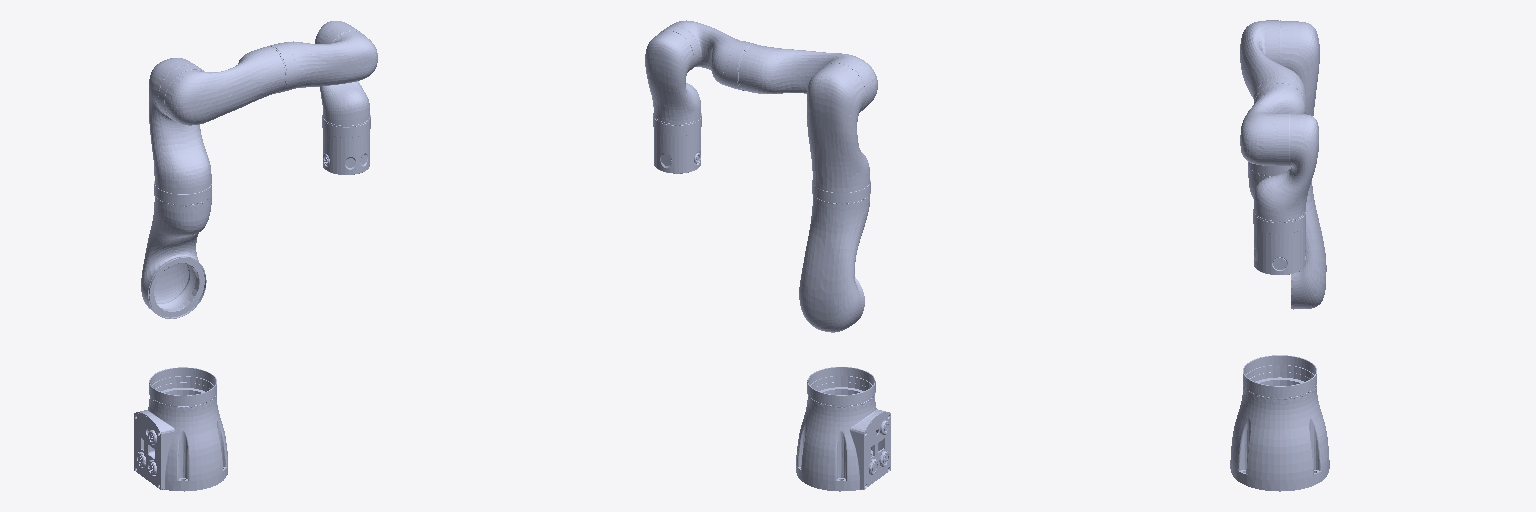
URDF robot description (tcb605):
<?xml version="1.0" encoding="utf-8"?>
<!-- This URDF was automatically created by SolidWorks to URDF Exporter! Originally created by Stephen Brawner (brawner@gmail.com) 
     Commit Version: 1.6.0-4-g7f85cfe  Build Version: 1.6.7995.38578
     For more information, please see http://wiki.ros.org/sw_urdf_exporter -->
<robot
  name="tcb605">
  <mujoco>
    <compiler
      meshdir="../meshes/"
      discardvisual="false"
    />
  </mujoco>
  <link
    name="link0">
    <inertial>
      <origin
        xyz="6.12497638641969E-05 -0.000223185372968983 0.0451250845243685"
        rpy="0 0 0" />
      <mass
        value="0.187811134048234" />
      <inertia
        ixx="0.000410447827698303"
        ixy="-1.83967207207471E-06"
        ixz="7.38633064775921E-06"
        iyy="0.00040849066760795"
        iyz="9.28078640227983E-07"
        izz="0.000400922840502194" />
    </inertial>
    <visual>
      <origin
        xyz="0 0 0"
        rpy="0 0 0" />
      <geometry>
        <mesh
          filename="package://tl_description/meshes/tcb605/link0.STL" />
      </geometry>
      <material
        name="">
        <color
          rgba="0.792156862745098 0.819607843137255 0.933333333333333 1" />
      </material>
    </visual>
    <collision>
      <origin
        xyz="0 0 0"
        rpy="0 0 0" />
      <geometry>
        <mesh
          filename="package://tl_description/meshes/tcb605/link0.STL" />
      </geometry>
    </collision>
  </link>
  <link
    name="link1">
    <inertial>
      <origin
        xyz="-1.47467364543795E-05 -0.0147035745838852 0.0741700653739531"
        rpy="0 0 0" />
      <mass
        value="0.14078274314442" />
      <inertia
        ixx="0.000389165158363872"
        ixy="7.76850517532584E-09"
        ixz="-3.45965366455426E-08"
        iyy="0.000404601054210795"
        iyz="5.39676858807365E-05"
        izz="0.000158801770197842" />
    </inertial>
    <visual>
      <origin
        xyz="0 0 0"
        rpy="0 0 0" />
      <geometry>
        <mesh
          filename="package://tl_description/meshes/tcb605/link1.STL" />
      </geometry>
      <material
        name="">
        <color
          rgba="0.792156862745098 0.819607843137255 0.933333333333333 1" />
      </material>
    </visual>
    <collision>
      <origin
        xyz="0 0 0"
        rpy="0 0 0" />
      <geometry>
        <mesh
          filename="package://tl_description/meshes/tcb605/link1.STL" />
      </geometry>
    </collision>
  </link>
  <joint
    name="joint1"
    type="revolute">
    <origin
      xyz="0 0 0.11555"
      rpy="0 0 0" />
    <parent
      link="link0" />
    <child
      link="link1" />
    <axis
      xyz="0 0 1" />
    <limit
      lower="-3.1226"
      upper="3.1226"
      effort="0"
      velocity="0" />
  </joint>
  <link
    name="link2">
    <inertial>
      <origin
        xyz="-5.85007831970426E-05 0.131535550676196 -0.00870307560181634"
        rpy="0 0 0" />
      <mass
        value="0.239039772831338" />
      <inertia
        ixx="0.00212991677927877"
        ixy="2.28044116148353E-06"
        ixz="2.23828147056519E-07"
        iyy="0.000220514814430678"
        iyz="-8.89893912685629E-05"
        izz="0.00214693661406793" />
    </inertial>
    <visual>
      <origin
        xyz="0 0 0"
        rpy="0 0 0" />
      <geometry>
        <mesh
          filename="package://tl_description/meshes/tcb605/link2.STL" />
      </geometry>
      <material
        name="">
        <color
          rgba="0.792156862745098 0.819607843137255 0.933333333333333 1" />
      </material>
    </visual>
    <collision>
      <origin
        xyz="0 0 0"
        rpy="0 0 0" />
      <geometry>
        <mesh
          filename="package://tl_description/meshes/tcb605/link2.STL" />
      </geometry>
    </collision>
  </link>
  <joint
    name="joint2"
    type="revolute">
    <origin
      xyz="0 0.00715 0.12745"
      rpy="1.5708 0 0" />
    <parent
      link="link1" />
    <child
      link="link2" />
    <axis
      xyz="0 0 1" />
    <limit
      lower="-2.3562"
      upper="2.3562"
      effort="0"
      velocity="0" />
  </joint>
  <link
    name="link3">
    <inertial>
      <origin
        xyz="6.4654509713824E-06 -0.0577535239528465 0.00878471471796331"
        rpy="0 0 0" />
      <mass
        value="0.0945260086055144" />
      <inertia
        ixx="0.000237785840924595"
        ixy="5.31249467449342E-08"
        ixz="1.0959083842822E-09"
        iyy="6.42616332886216E-05"
        iyz="-4.60316398863734E-05"
        izz="0.000240859287940652" />
    </inertial>
    <visual>
      <origin
        xyz="0 0 0"
        rpy="0 0 0" />
      <geometry>
        <mesh
          filename="package://tl_description/meshes/tcb605/link3.STL" />
      </geometry>
      <material
        name="">
        <color
          rgba="0.792156862745098 0.819607843137255 0.933333333333333 1" />
      </material>
    </visual>
    <collision>
      <origin
        xyz="0 0 0"
        rpy="0 0 0" />
      <geometry>
        <mesh
          filename="package://tl_description/meshes/tcb605/link3.STL" />
      </geometry>
    </collision>
  </link>
  <joint
    name="joint3"
    type="revolute">
    <origin
      xyz="0 0.2698 0.0155"
      rpy="0 0 1.5708" />
    <parent
      link="link2" />
    <child
      link="link3" />
    <axis
      xyz="0 0 1" />
    <limit
      lower="-0.9520"
      upper="4.0666"
      effort="0"
      velocity="0" />
  </joint>
  <link
    name="link4">
    <inertial>
      <origin
        xyz="-1.01599236419503E-05 0.0129940451281973 0.0552922895933873"
        rpy="0 0 0" />
      <mass
        value="0.0720848632280734" />
      <inertia
        ixx="0.000105414963954196"
        ixy="1.21044879475409E-08"
        ixz="-2.49607301588515E-09"
        iyy="0.000106134748297671"
        iyz="-1.86457211171986E-05"
        izz="4.55695459477084E-05" />
    </inertial>
    <visual>
      <origin
        xyz="0 0 0"
        rpy="0 0 0" />
      <geometry>
        <mesh
          filename="package://tl_description/meshes/tcb605/link4.STL" />
      </geometry>
      <material
        name="">
        <color
          rgba="0.792156862745098 0.819607843137255 0.933333333333333 1" />
      </material>
    </visual>
    <collision>
      <origin
        xyz="0 0 0"
        rpy="0 0 0" />
      <geometry>
        <mesh
          filename="package://tl_description/meshes/tcb605/link4.STL" />
      </geometry>
    </collision>
  </link>
  <joint
    name="joint4"
    type="revolute">
    <origin
      xyz="0 -0.13665 -0.00835"
      rpy="1.5708 0 0" />
    <parent
      link="link3" />
    <child
      link="link4" />
    <axis
      xyz="0 0 1" />
    <limit
      lower="-3.1226"
      upper="3.1226"
      effort="0"
      velocity="0" />
  </joint>
  <link
    name="link5">
    <inertial>
      <origin
        xyz="-0.0369306234085027 1.16804533156767E-06 0.0120182240675074"
        rpy="0 0 0" />
      <mass
        value="0.0641133128693719" />
      <inertia
        ixx="4.10035425256429E-05"
        ixy="-7.62881247961211E-09"
        ixz="-2.10915462249844E-05"
        iyy="9.88030044573257E-05"
        iyz="3.02278218622989E-09"
        izz="9.7377072978335E-05" />
    </inertial>
    <visual>
      <origin
        xyz="0 0 0"
        rpy="0 0 0" />
      <geometry>
        <mesh
          filename="package://tl_description/meshes/tcb605/link5.STL" />
      </geometry>
      <material
        name="">
        <color
          rgba="0.792156862745098 0.819607843137255 0.933333333333333 1" />
      </material>
    </visual>
    <collision>
      <origin
        xyz="0 0 0"
        rpy="0 0 0" />
      <geometry>
        <mesh
          filename="package://tl_description/meshes/tcb605/link5.STL" />
      </geometry>
    </collision>
  </link>
  <joint
    name="joint5"
    type="revolute">
    <origin
      xyz="0 -0.00365 0.09315"
      rpy="1.5708 0 0" />
    <parent
      link="link4" />
    <child
      link="link5" />
    <axis
      xyz="0 0 1" />
    <limit
      lower="-3.8921"
      upper="0.7505"
      effort="0"
      velocity="0" />
  </joint>
  <link
    name="link6">
    <inertial>
      <origin
        xyz="-0.000439337782661559 0.000114630555145726 -0.0238139644738644"
        rpy="0 0 0" />
      <mass
        value="0.0531024365701538" />
      <inertia
        ixx="3.09184114938941E-05"
        ixy="-1.15971622560416E-08"
        ixz="2.34766440616236E-07"
        iyy="3.18708092090231E-05"
        iyz="-6.28849159672354E-08"
        izz="3.41446108161886E-05" />
    </inertial>
    <visual>
      <origin
        xyz="0 0 0"
        rpy="0 0 0" />
      <geometry>
        <mesh
          filename="package://tl_description/meshes/tcb605/link6.STL" />
      </geometry>
      <material
        name="">
        <color
          rgba="0.792156862745098 0.819607843137255 0.933333333333333 1" />
      </material>
    </visual>
    <collision>
      <origin
        xyz="0 0 0"
        rpy="0 0 0" />
      <geometry>
        <mesh
          filename="package://tl_description/meshes/tcb605/link6.STL" />
      </geometry>
    </collision>
  </link>
  <joint
    name="joint6"
    type="revolute">
    <origin
      xyz="-0.1528 0 -0.00385"
      rpy="-1.5708 0 1.5708" />
    <parent
      link="link5" />
    <child
      link="link6" />
    <axis
      xyz="0 0 1" />
    <limit
      lower="-3.1226"
      upper="3.1226"
      effort="0"
      velocity="0" />
  </joint>
</robot>

--- Facts derived from the render (not from the file) ---
3 views of the same robot in one strip: view 1: azimuth 30°, elevation 25°; view 2: azimuth 150°, elevation 25°; view 3: azimuth 270°, elevation 25° (orthographic).
Model tcb605 with 7 links and 6 joints (6 revolute), rooted at link0, posed every joint at zero.
Links seen in each view (by area): view 1: link2, link0, link3, link4, link5, link6; view 2: link2, link0, link5, link3, link4, link6; view 3: link0, link2, link5, link4, link3, link6.
Boxes of the visible links, left/top/right/bottom form: link2: left=141, top=58, right=211, bottom=318; link0: left=134, top=367, right=227, bottom=491; link3: left=165, top=43, right=296, bottom=125; link4: left=283, top=26, right=377, bottom=88; link5: left=315, top=21, right=370, bottom=137; link6: left=323, top=131, right=369, bottom=174; link2: left=799, top=58, right=872, bottom=332; link0: left=796, top=367, right=890, bottom=491; link5: left=645, top=31, right=701, bottom=135; link3: left=727, top=41, right=877, bottom=102; link4: left=660, top=20, right=741, bottom=86; link6: left=654, top=129, right=700, bottom=173; link0: left=1230, top=355, right=1329, bottom=491; link2: left=1248, top=20, right=1326, bottom=309; link5: left=1253, top=114, right=1318, bottom=233; link4: left=1240, top=83, right=1305, bottom=165; link3: left=1240, top=21, right=1305, bottom=101; link6: left=1254, top=226, right=1305, bottom=274.
Size in the robot's own frame: 0.3132 by 0.1099 by 0.5482 metres.
Meshes: 7 distinct files referenced, 6 mesh visuals loaded (6 binary STL); not drawn: 1 (reference not matched to a file when rendering).
